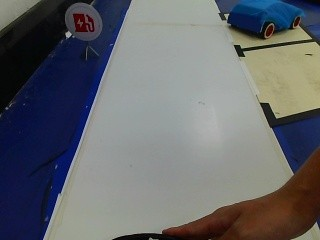battery: (62, 4, 102, 40)
car: (224, 0, 305, 40)
